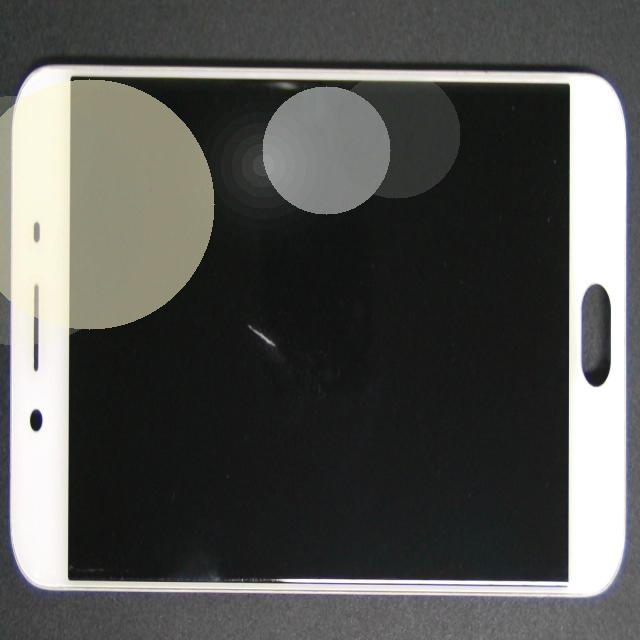scratch: (174, 190, 419, 494)
